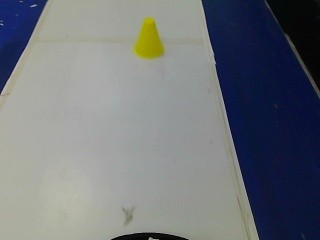cone: (134, 19, 167, 59)
